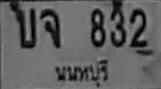2: (129, 7, 147, 47)
3: (109, 6, 125, 46)
8: (90, 8, 105, 47)
A08: (40, 8, 60, 47)
A26: (11, 5, 36, 48)
NBI: (51, 58, 108, 86)
